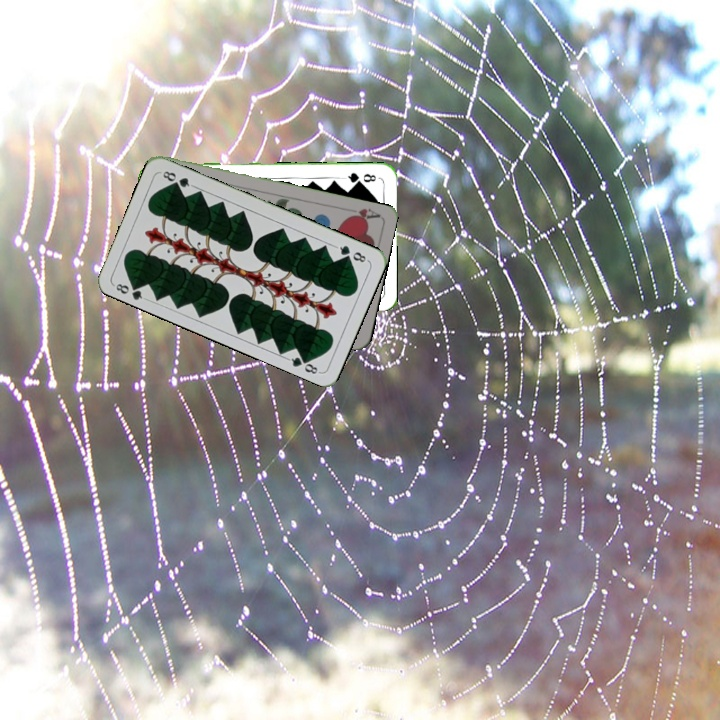G8: (110, 278, 149, 303), (332, 241, 370, 265), (340, 169, 378, 185)
HA: (341, 204, 382, 224)
